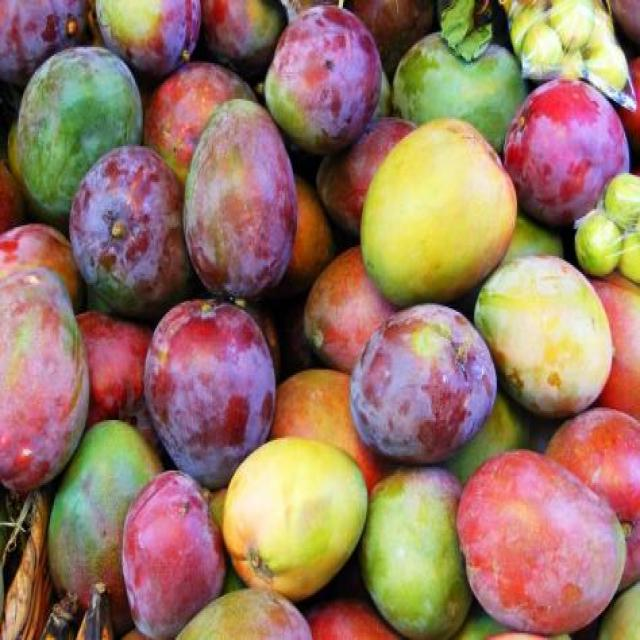mango: (446, 440, 625, 640), (350, 303, 498, 463), (182, 99, 298, 298), (475, 255, 613, 417)
